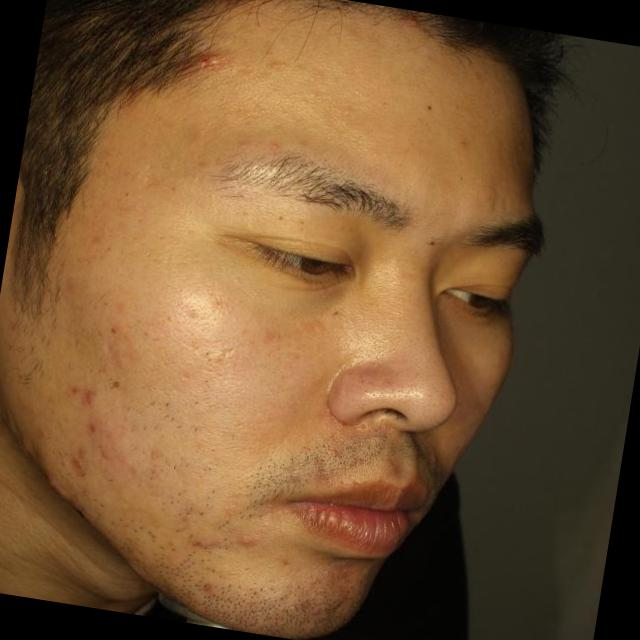acne: (192, 34, 228, 80), (186, 522, 217, 562), (88, 439, 120, 475), (224, 524, 261, 554), (63, 379, 99, 408), (317, 580, 344, 618), (59, 446, 88, 479), (80, 412, 112, 432)
